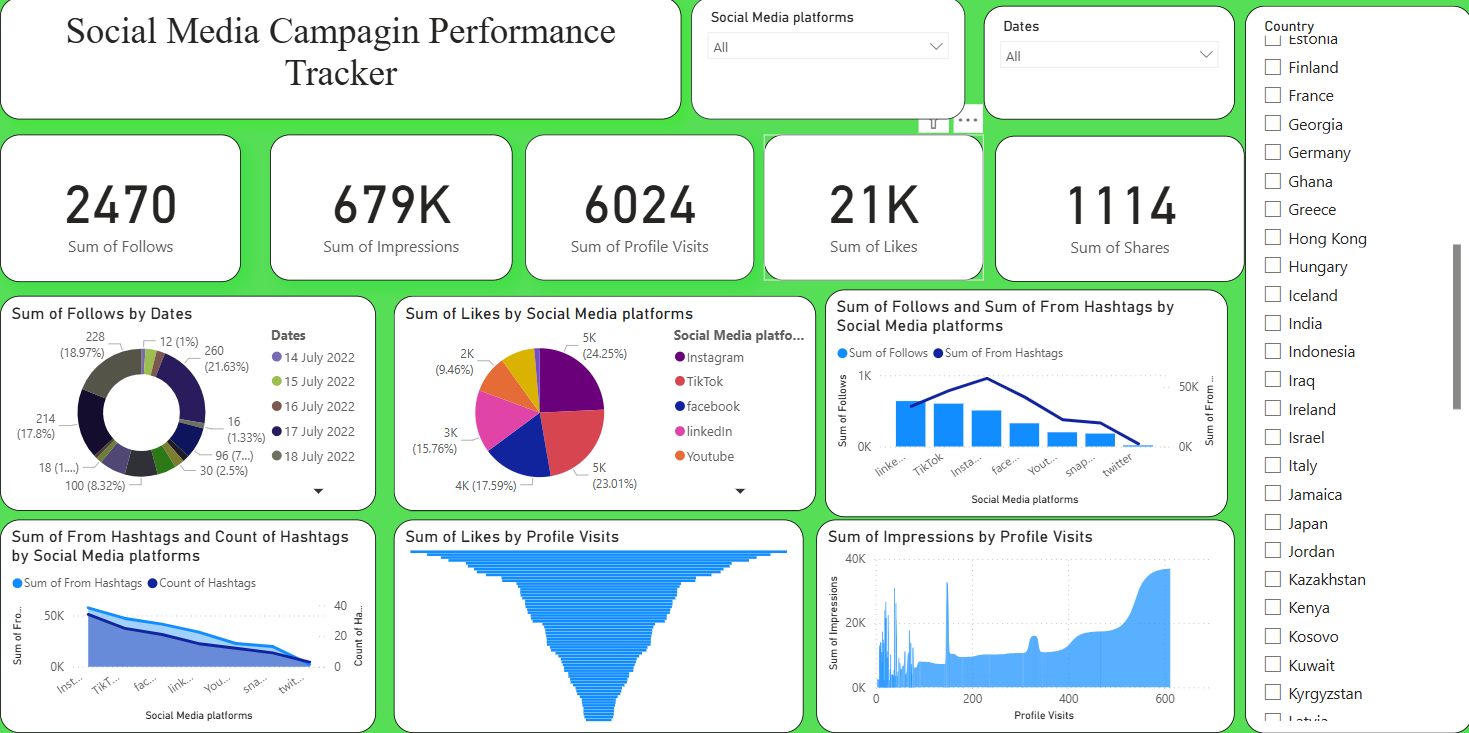

The dashboard page shown, as its layout file describes it:
{"tool":"powerbi","page":{"name":"Page 1","canvas":[1500,750],"ordinal":0},"visuals":[{"type":"textbox","box":[0,0,694.6,124.7],"z":0},{"type":"card","fields":{"Values":["Sum(Sheet1.Follows)"]},"box":[0,140.1,245.8,150.3],"z":1000},{"type":"card","fields":{"Values":["Sum(Sheet1.Impressions)"]},"box":[275.1,140.6,247,149.2],"z":2000},{"type":"card","fields":{"Values":["Sum(Sheet1.Profile Visits)"]},"box":[534.4,140.6,233.6,149.2],"z":3000},{"type":"card","fields":{"Values":["Sum(Sheet1.Likes)"]},"box":[778.3,140.1,224.2,149],"z":4000},{"type":"card","fields":{"Values":["Sum(Sheet1.Shares)"]},"box":[1013.9,141.4,254.8,149],"z":5000},{"type":"slicer","fields":{"Values":["Sheet1.Country"]},"box":[1268.7,8.9,231.8,741.3],"z":6000},{"type":"slicer","fields":{"Values":["Sheet1.Social Media platforms"]},"box":[704.4,0,279,124.8],"z":7000},{"type":"slicer","fields":{"Values":["Sheet1.Dates"]},"box":[1002.5,8.9,256,115.9],"z":8000},{"type":"donutChart","fields":{"Category":["Sheet1.Dates"],"Y":["Sum(Sheet1.Follows)"]},"box":[0,304.4,383.4,219.1],"z":9000},{"type":"pieChart","fields":{"Category":["Sheet1.Social Media platforms"],"Y":["Sum(Sheet1.Likes)"]},"box":[401.2,304.4,430.5,219.1],"z":10000},{"type":"lineClusteredColumnComboChart","fields":{"Category":["Sheet1.Social Media platforms"],"Y":["Sum(Sheet1.Follows)"],"Y2":["Sum(Sheet1.From Hashtags)"]},"box":[840.7,298.1,410.2,231.8],"z":11000},{"type":"areaChart","fields":{"Category":["Sheet1.Social Media platforms"],"Y":["Sum(Sheet1.From Hashtags)"],"Y2":["CountNonNull(Sheet1.Hashtags)"]},"box":[0,532.4,383.4,217.8],"z":12000},{"type":"funnel","fields":{"Category":["Sheet1.Profile Visits"],"Y":["Sum(Sheet1.Likes)"]},"box":[401.2,532.4,417.8,217.8],"z":13000},{"type":"ribbonChart","fields":{"Y":["Sum(Sheet1.Impressions)"],"Category":["Sheet1.Profile Visits"]},"box":[831.8,532.4,426.7,217.8],"z":14000}]}

Visuals, with their boxes in screenshot pixels (x1, y1, x2, y2), scaled from the page's 1500x750 canvas onto the 1469x733 screenshot:
textbox: {"x1": 0, "y1": 0, "x2": 680, "y2": 122}
card - Sum(Sheet1.Follows): {"x1": 0, "y1": 137, "x2": 241, "y2": 284}
card - Sum(Sheet1.Impressions): {"x1": 269, "y1": 137, "x2": 511, "y2": 283}
card - Sum(Sheet1.Profile Visits): {"x1": 523, "y1": 137, "x2": 752, "y2": 283}
card - Sum(Sheet1.Likes): {"x1": 762, "y1": 137, "x2": 982, "y2": 283}
card - Sum(Sheet1.Shares): {"x1": 993, "y1": 138, "x2": 1242, "y2": 284}
slicer - Sheet1.Country: {"x1": 1242, "y1": 9, "x2": 1468, "y2": 732}
slicer - Sheet1.Social Media platforms: {"x1": 690, "y1": 0, "x2": 963, "y2": 122}
slicer - Sheet1.Dates: {"x1": 982, "y1": 9, "x2": 1232, "y2": 122}
donutChart - Sheet1.Dates x Sum(Sheet1.Follows): {"x1": 0, "y1": 298, "x2": 375, "y2": 512}
pieChart - Sheet1.Social Media platforms x Sum(Sheet1.Likes): {"x1": 393, "y1": 298, "x2": 815, "y2": 512}
lineClusteredColumnComboChart - Sheet1.Social Media platforms x Sum(Sheet1.Follows): {"x1": 823, "y1": 291, "x2": 1225, "y2": 518}
areaChart - Sheet1.Social Media platforms x Sum(Sheet1.From Hashtags): {"x1": 0, "y1": 520, "x2": 375, "y2": 732}
funnel - Sheet1.Profile Visits x Sum(Sheet1.Likes): {"x1": 393, "y1": 520, "x2": 802, "y2": 732}
ribbonChart - Sum(Sheet1.Impressions) x Sheet1.Profile Visits: {"x1": 815, "y1": 520, "x2": 1232, "y2": 732}
